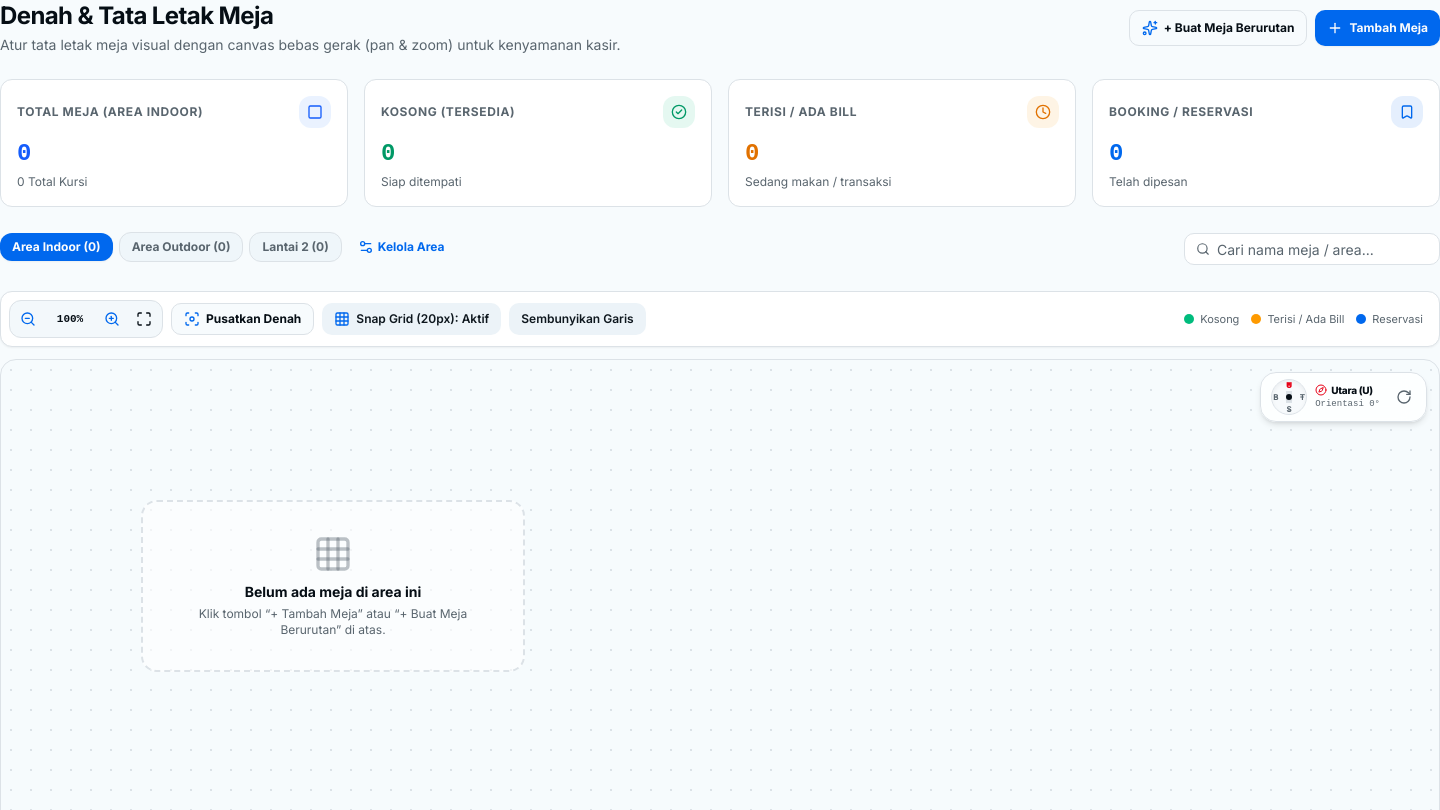
Test case: TablesPage › opens add table modal dialog
Check: the heading "Denah & Tata Letak Meja" is shown, box [0, 0, 273, 32]
Click the button "Tambah Meja" at (1378, 28), box [1315, 10, 1439, 46]
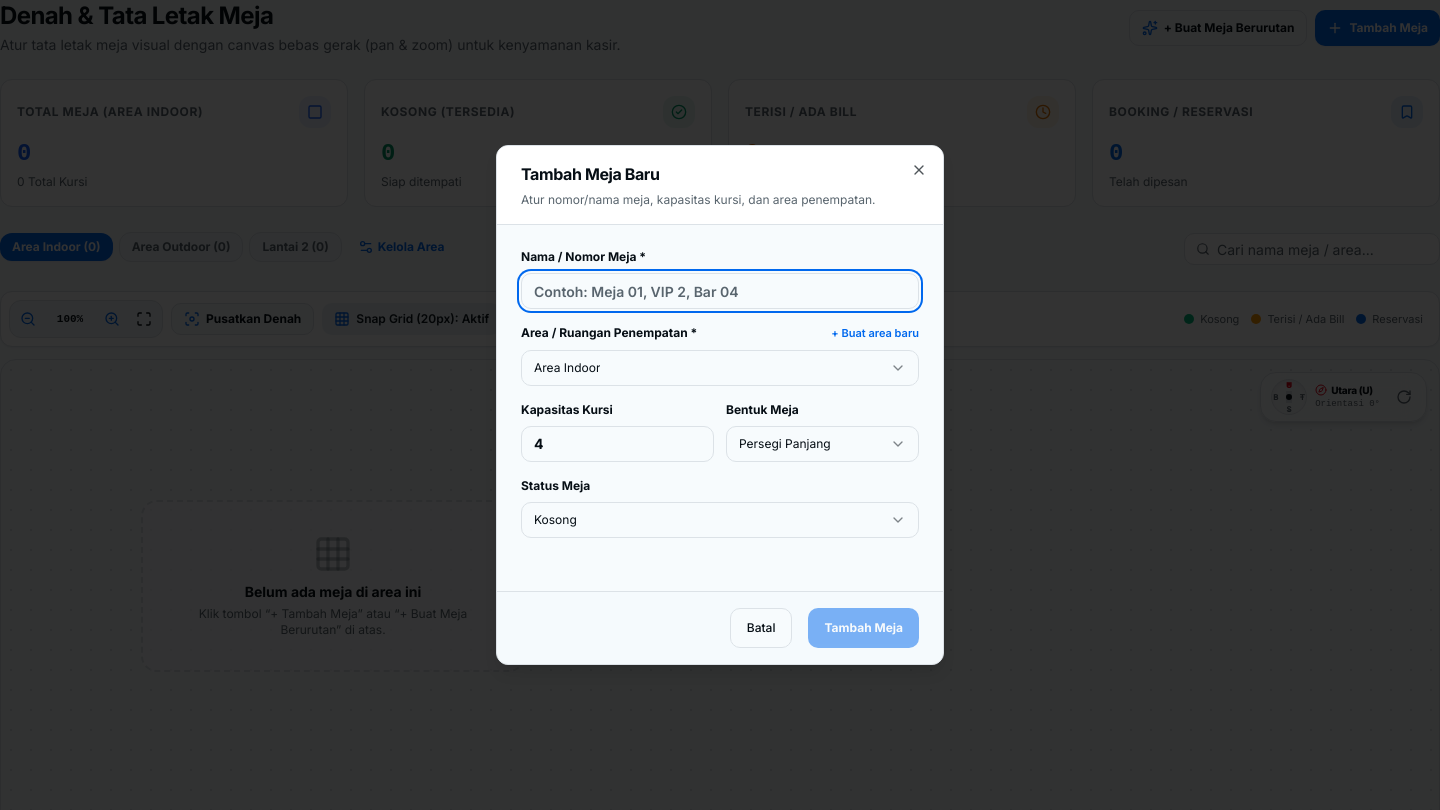
Check: the heading "Tambah Meja Baru" is shown, box [521, 164, 660, 184]
Check: the field with placeholder "Contoh: Meja 01, VIP 2, Bar 04" is shown, box [521, 273, 919, 309]
